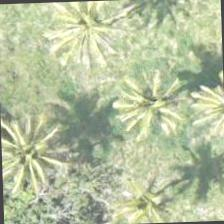Kelapa_Sawit: (96, 62, 188, 156), (44, 0, 138, 85), (85, 155, 179, 223), (0, 117, 63, 209)
